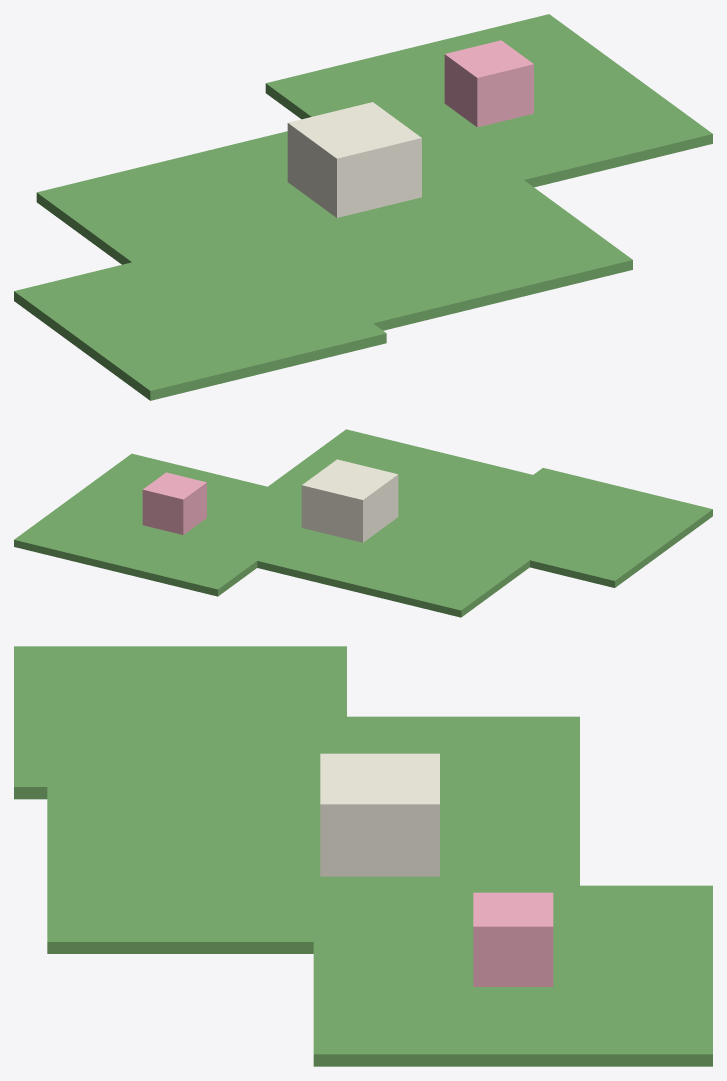
Rendered from prop_lilypad.glb.
3 renders of one model, top to bottom at view 1: azimuth 30°, elevation 25°; view 2: azimuth 150°, elevation 25°; view 3: azimuth 270°, elevation 25°, orthographic. The views are drawn at different scales.
Parts seen in each view (by area): view 1: Prop_LilyPad; view 2: Prop_LilyPad; view 3: Prop_LilyPad.
Boxes of the visible parts, x1=… form: Prop_LilyPad: x1=14, y1=14, x2=712, y2=400; Prop_LilyPad: x1=14, y1=429, x2=712, y2=617; Prop_LilyPad: x1=14, y1=646, x2=712, y2=1066.
Size of the model in its own units: 1.45 by 0.15 by 1.05.
